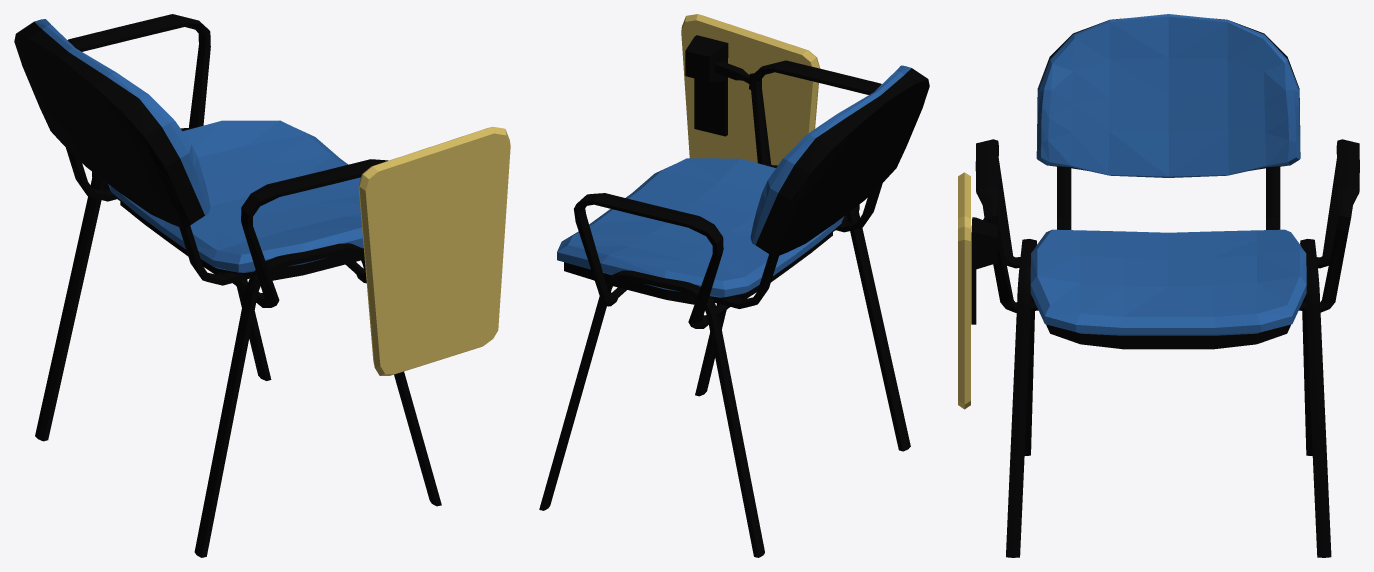
File: Chair_02.obj
The picture shows the model from 3 angles, left to right: view 1: azimuth 30°, elevation 25°; view 2: azimuth 150°, elevation 25°; view 3: azimuth 270°, elevation 25°; orthographic projection. The views are drawn at different scales.
Visible parts, largest first — view 1: Chair_2_Cube.004; view 2: Chair_2_Cube.004; view 3: Chair_2_Cube.004.
Part boxes in pixels (x1=…): Chair_2_Cube.004: x1=14, y1=14, x2=510, y2=557; Chair_2_Cube.004: x1=539, y1=14, x2=929, y2=557; Chair_2_Cube.004: x1=958, y1=14, x2=1359, y2=557.
Bounding box in the file's own units: 1.31 × 1.71 × 1.49.
